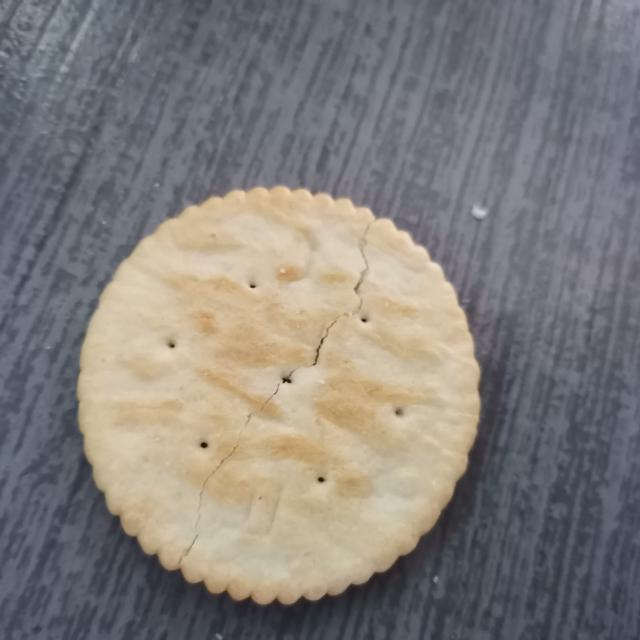Fracture: (163, 207, 391, 584)
